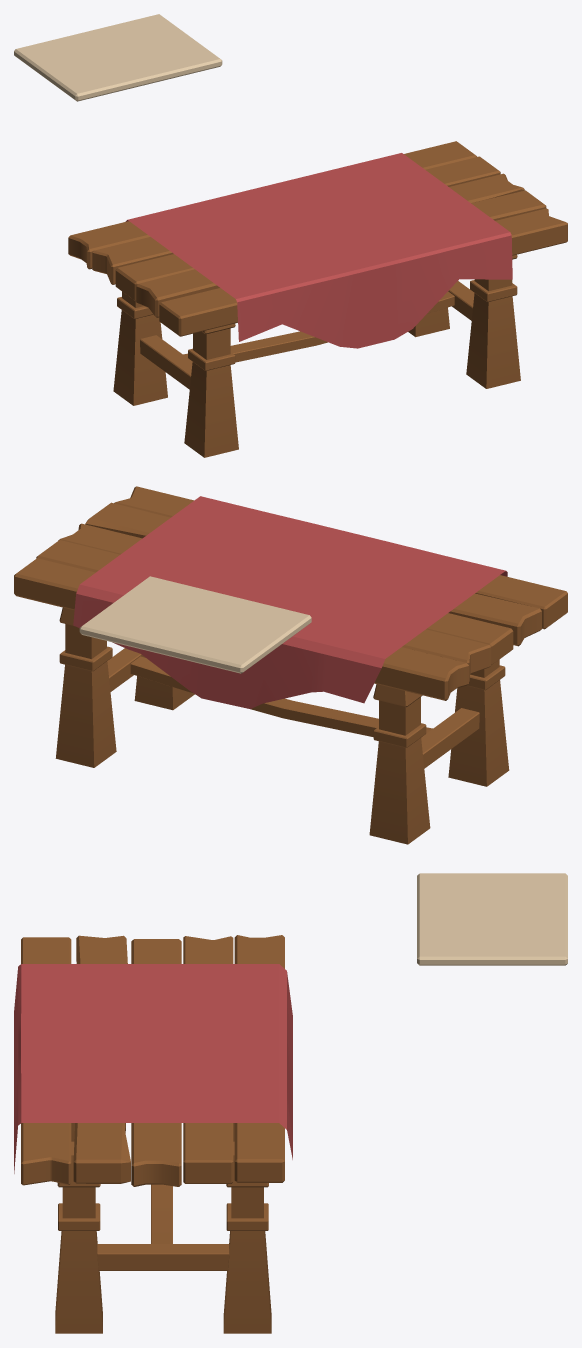
File: bedroom_do.fbx
3 renders of one model, top to bottom at view 1: azimuth 30°, elevation 25°; view 2: azimuth 150°, elevation 25°; view 3: azimuth 270°, elevation 25°, orthographic. The views are drawn at different scales.
Parts seen in each view (by area): view 1: pPlane1, ouija1, desk27, desk28, desk31, desk3, desk10, desk19, desk20, desk32, desk11, desk4 (+2 smaller); view 2: pPlane1, ouija1, desk3, desk30, desk20, desk27, desk10, desk31, desk19, desk32, desk11, desk4 (+2 smaller); view 3: pPlane1, ouija1, desk28, desk30, desk10, desk32, desk20, desk31, desk19, desk29, desk11.
Boxes of the visible parts, x1,y1,x2,y2 form: pPlane1: (125, 153, 512, 348); ouija1: (14, 14, 222, 101); desk27: (184, 323, 238, 457); desk28: (466, 254, 520, 388); desk31: (159, 208, 567, 336); desk3: (113, 291, 167, 405); desk10: (136, 189, 546, 317); desk19: (92, 156, 500, 284); desk20: (68, 141, 477, 269); desk32: (115, 173, 524, 301); desk11: (183, 291, 454, 362); desk4: (140, 335, 192, 389); pPlane1: (73, 496, 507, 708); ouija1: (79, 576, 311, 673); desk3: (369, 684, 430, 844); desk30: (55, 607, 116, 767); desk20: (14, 558, 468, 700); desk27: (448, 659, 509, 786); desk10: (85, 502, 541, 646); desk31: (114, 486, 567, 629); desk19: (36, 540, 491, 681); desk32: (58, 523, 513, 664); desk11: (130, 656, 432, 737); desk4: (421, 708, 479, 768); pPlane1: (14, 964, 292, 1173); ouija1: (417, 873, 567, 965); desk28: (55, 1141, 102, 1333); desk30: (223, 1141, 271, 1333); desk10: (73, 935, 130, 1183); desk32: (131, 939, 181, 1186); desk20: (234, 935, 284, 1182); desk31: (21, 937, 71, 1185); desk19: (183, 936, 233, 1183); desk29: (97, 1244, 229, 1270); desk11: (151, 1184, 172, 1243).
Bounding box in the file's own units: 60.31 × 35.92 × 61.81.
